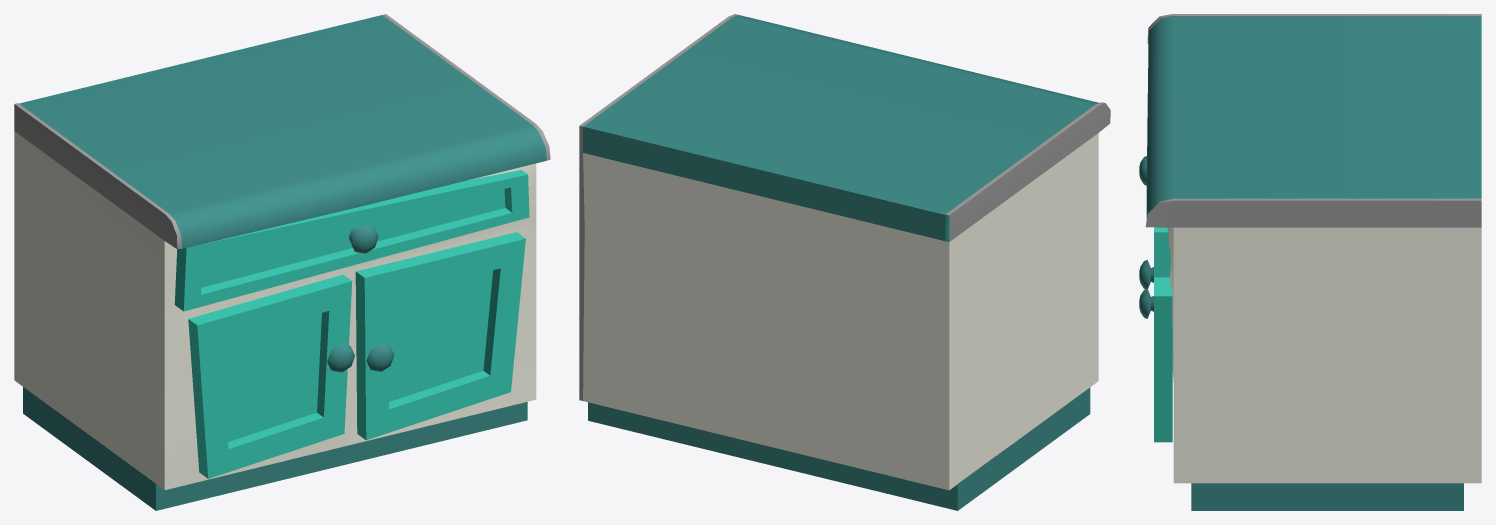
File: NewWorkTable.fbx
3 renders of one model, left to right at view 1: azimuth 30°, elevation 25°; view 2: azimuth 150°, elevation 25°; view 3: azimuth 270°, elevation 25°, orthographic. The views are drawn at different scales.
Visible parts, largest first — view 1: Cube.001; view 2: Cube.001; view 3: Cube.001.
Boxes of the visible parts, <box> form: Cube.001: <box>14,14,550,510</box>; Cube.001: <box>579,14,1110,510</box>; Cube.001: <box>1139,14,1481,510</box>.
Bounding box in the file's own units: 100 × 77.99 × 77.83.
